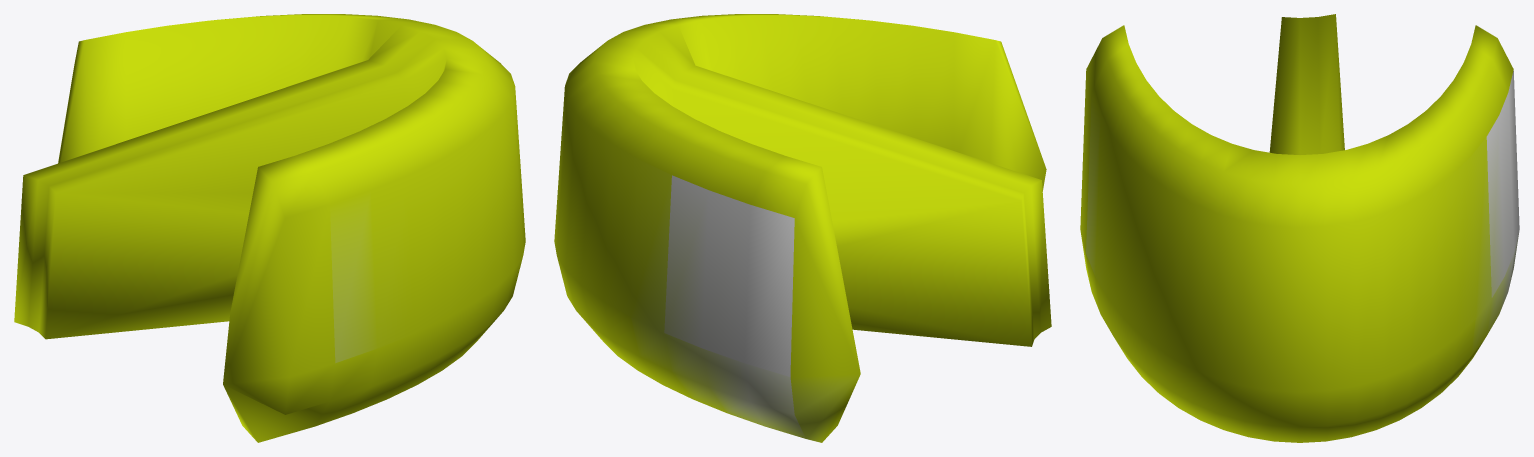
File: SmallPlayer.fbx
The picture shows the model from 3 angles, left to right: view 1: azimuth 30°, elevation 25°; view 2: azimuth 150°, elevation 25°; view 3: azimuth 270°, elevation 25°; orthographic projection.
Visible parts, largest first — view 1: Torus; view 2: Torus; view 3: Torus.
Part boxes in pixels (x1,y1,x2,y2): Torus: (14,14,525,442); Torus: (554,14,1051,442); Torus: (1080,14,1519,442).
Size of the model in its own units: 1.58 by 0.8711 by 1.24.
